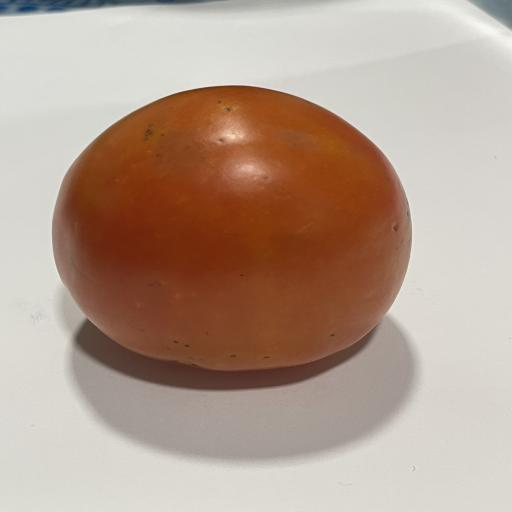unripe: (53, 86, 411, 371)
